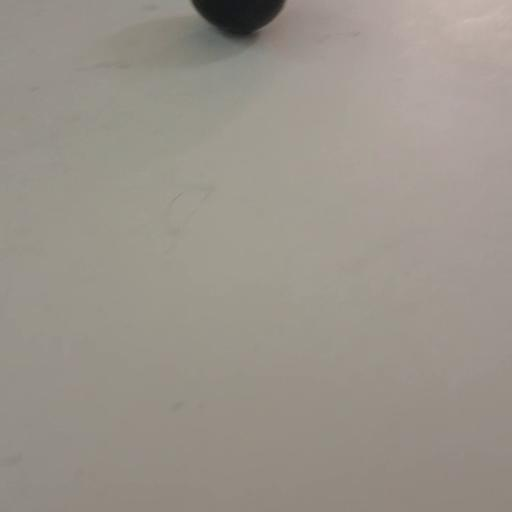dead: (190, 1, 290, 36)
